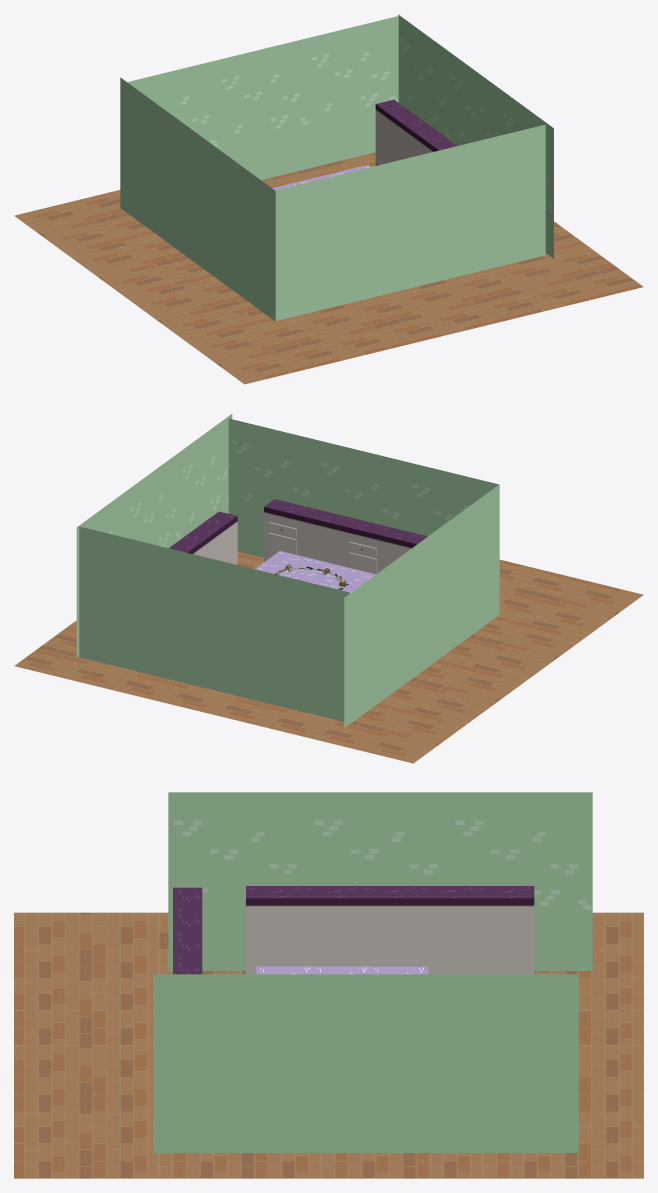
3 views of the same model, one above another, from view 1: azimuth 30°, elevation 25°; view 2: azimuth 150°, elevation 25°; view 3: azimuth 270°, elevation 25° (orthographic). The views are drawn at different scales.
Parts seen in each view (by area): view 1: pPlane1, mesh_kitchen_wall_13, mesh_kitchen_wall_11, mesh_kitchen_wall_12, mesh_kitchen_wall_06, mesh_kitchen_wall_07, mesh_kitchen_wall_02, mesh_kitchen_wall_04, mesh_kitchen_wall_03, mesh_kitchen_wall_08, mesh_kitchen_wall_05, mesh_kitchen_wall_09 (+4 smaller); view 2: pPlane1, mesh_kitchen_wall_07, mesh_kitchen_wall_06, mesh_kitchen_wall_05, mesh_kitchen_wall_13, mesh_kitchen_wall_04, mesh_kitchen_wall_03, mesh_kitchen_wall_02, mesh_kitchen_wall_12, mesh_kitchen_wall_10, mesh_kitchen_wall_11, mesh_kitchen_wall_09 (+11 smaller); view 3: pPlane1, mesh_kitchen_wall_08, mesh_kitchen_wall_09, mesh_kitchen_wall_10, mesh_kitchen_wall_04, mesh_kitchen_wall_02, mesh_kitchen_wall_03, mesh_kitchen_counterPurple_18, mesh_kitchen_counterPurple_17, mesh_kitchen_counterPurple_14, mesh_kitchen_counterPurple_16, mesh_kitchen_counterPurple_15 (+3 smaller).
Part boxes in pixels (x1,y1,x2,y2): pPlane1: [14, 152, 643, 384]; mesh_kitchen_wall_13: [455, 124, 545, 277]; mesh_kitchen_wall_11: [275, 168, 365, 320]; mesh_kitchen_wall_12: [365, 146, 455, 298]; mesh_kitchen_wall_06: [218, 38, 308, 179]; mesh_kitchen_wall_07: [308, 16, 398, 168]; mesh_kitchen_wall_02: [223, 153, 275, 321]; mesh_kitchen_wall_04: [120, 77, 172, 245]; mesh_kitchen_wall_03: [172, 116, 223, 282]; mesh_kitchen_wall_08: [398, 14, 449, 139]; mesh_kitchen_wall_05: [128, 60, 218, 148]; mesh_kitchen_wall_09: [450, 52, 501, 145]; pPlane1: [14, 551, 643, 763]; mesh_kitchen_wall_07: [79, 526, 169, 678]; mesh_kitchen_wall_06: [169, 548, 259, 700]; mesh_kitchen_wall_05: [259, 570, 349, 721]; mesh_kitchen_wall_13: [228, 418, 319, 557]; mesh_kitchen_wall_04: [344, 559, 396, 728]; mesh_kitchen_wall_03: [396, 522, 448, 689]; mesh_kitchen_wall_02: [447, 484, 499, 651]; mesh_kitchen_wall_12: [318, 440, 408, 531]; mesh_kitchen_wall_10: [180, 414, 232, 539]; mesh_kitchen_wall_11: [408, 462, 498, 536]; mesh_kitchen_wall_09: [129, 452, 180, 548]; pPlane1: [14, 912, 643, 1178]; mesh_kitchen_wall_08: [435, 974, 578, 1152]; mesh_kitchen_wall_09: [294, 974, 437, 1152]; mesh_kitchen_wall_10: [153, 974, 296, 1152]; mesh_kitchen_wall_04: [449, 792, 592, 970]; mesh_kitchen_wall_02: [168, 792, 311, 970]; mesh_kitchen_wall_03: [309, 792, 451, 885]; mesh_kitchen_counterPurple_18: [476, 886, 534, 974]; mesh_kitchen_counterPurple_17: [418, 886, 476, 974]; mesh_kitchen_counterPurple_14: [246, 886, 304, 974]; mesh_kitchen_counterPurple_16: [361, 886, 419, 966]; mesh_kitchen_counterPurple_15: [303, 886, 361, 966].
Size of the model in its own units: 17.62 by 5.51 by 17.62.
Materials: 9 (7 with a texture image).
